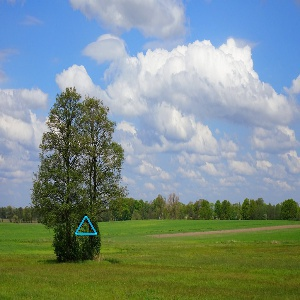triangle: (72, 211, 100, 239)
